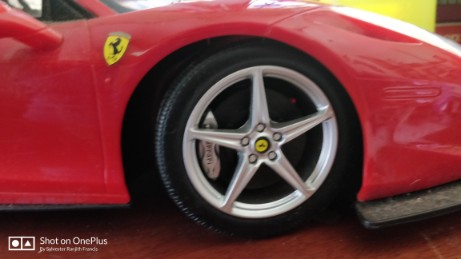unaligned_wheel: (146, 57, 364, 239)
